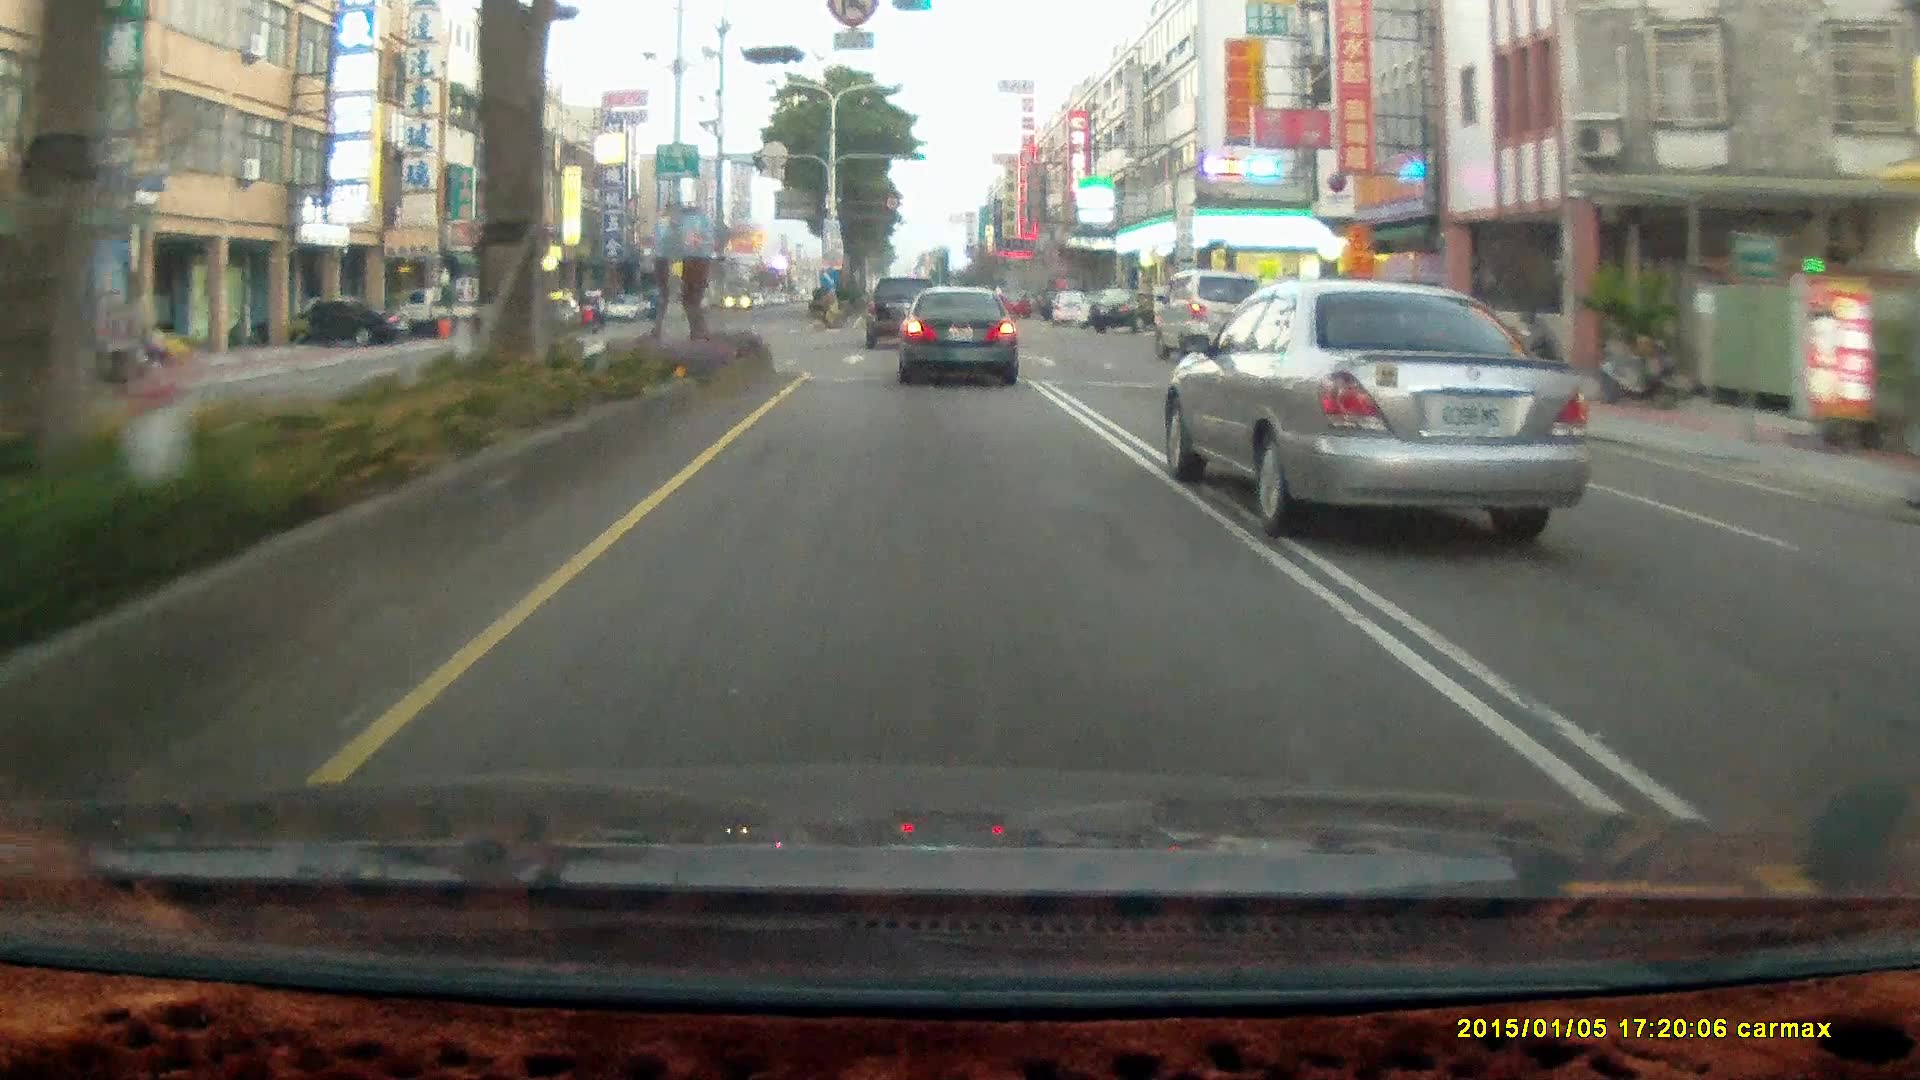rider: (578, 288, 608, 334)
vehicle: (1168, 277, 1608, 539), (897, 284, 1024, 390), (895, 284, 1018, 384), (1153, 268, 1265, 361), (1157, 270, 1269, 364), (264, 295, 401, 345), (864, 274, 943, 351), (296, 295, 405, 350), (865, 274, 941, 347), (398, 286, 499, 340), (389, 286, 491, 333), (1088, 287, 1167, 329), (1089, 286, 1144, 332), (1047, 287, 1091, 323), (610, 294, 648, 319)
